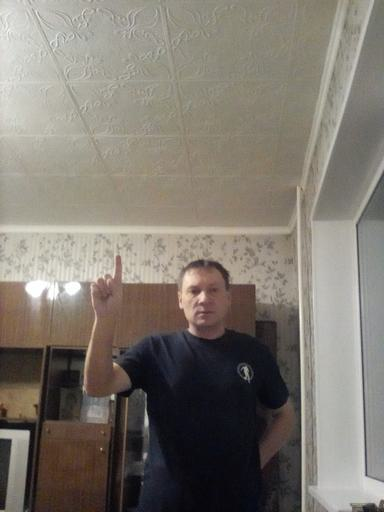one: (88, 252, 125, 319)
